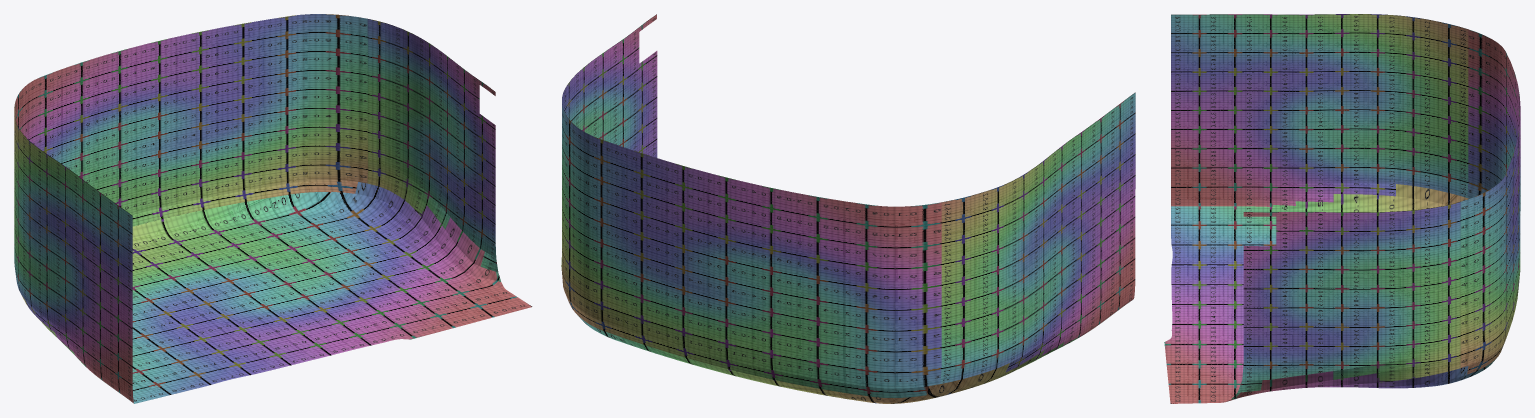
File: wall_shell.FBX
3 views of the same model, side by side, from view 1: azimuth 30°, elevation 25°; view 2: azimuth 150°, elevation 25°; view 3: azimuth 270°, elevation 25° (orthographic). The views are drawn at different scales.
Visible parts, largest first — view 1: Walls_007; view 2: Walls_007; view 3: Walls_007.
Part boxes in pixels (bbox=[...]): Walls_007: bbox=[14, 14, 532, 403]; Walls_007: bbox=[561, 14, 1135, 403]; Walls_007: bbox=[1164, 14, 1520, 403].
Size of the model in its own units: 807 by 363 by 611.
Materials: 1 (1 with a texture image).
